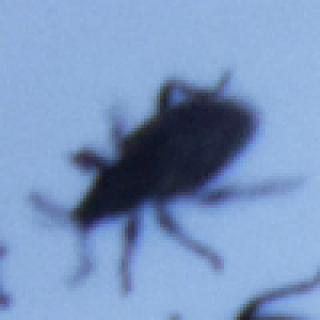bvw: (22, 64, 308, 293)
